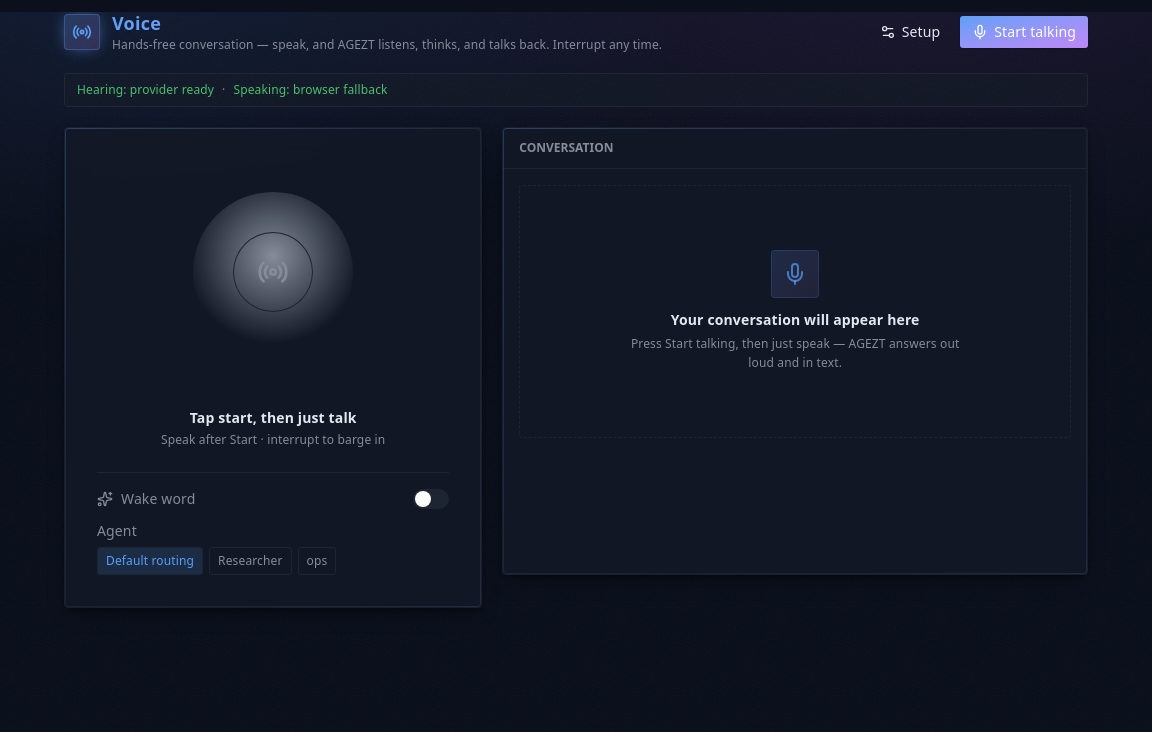
Scenario: Voice view › starts a session and swaps to a Stop control
This screenshot has width=1152, height=732.
Click the button "Start talking" at (1024, 32), box x1=960 y1=16 x2=1088 y2=48
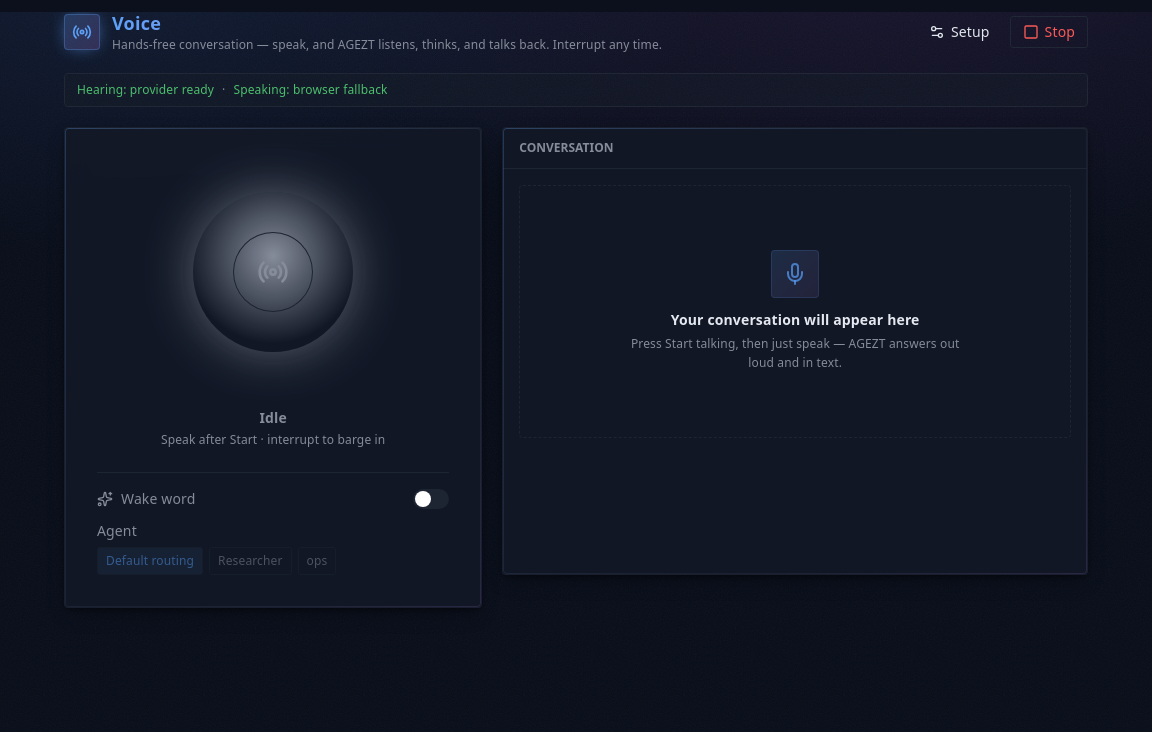
Now the button "Stop" is shown, box x1=1010 y1=16 x2=1088 y2=48
